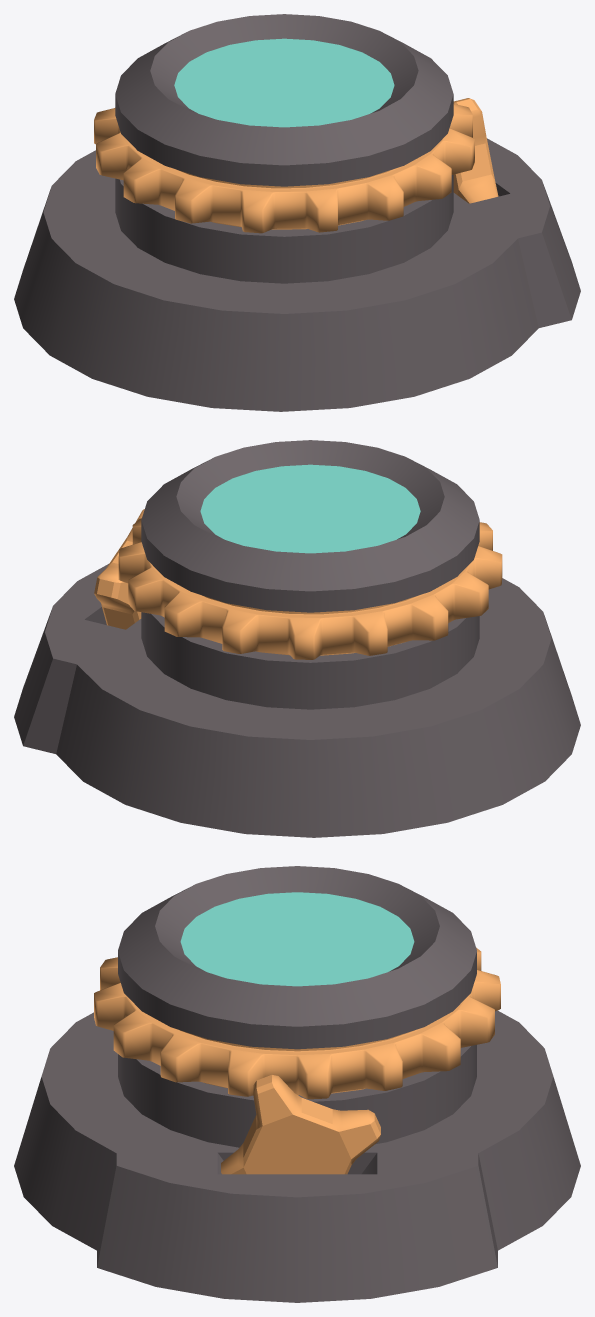
The model's file is Small_turret.fbx.
3 views of the same model, one above another, from view 1: azimuth 30°, elevation 25°; view 2: azimuth 150°, elevation 25°; view 3: azimuth 270°, elevation 25° (orthographic). The views are drawn at different scales.
Parts seen in each view (by area): view 1: Small_turret_base, Small_turret_lcog, Small_turret_scog; view 2: Small_turret_base, Small_turret_lcog, Small_turret_scog; view 3: Small_turret_base, Small_turret_lcog, Small_turret_scog.
Part boxes in pixels (x1=…): Small_turret_base: x1=14, y1=14, x2=580, y2=411; Small_turret_lcog: x1=94, y1=104, x2=474, y2=233; Small_turret_scog: x1=453, y1=98, x2=498, y2=203; Small_turret_base: x1=14, y1=440, x2=580, y2=837; Small_turret_lcog: x1=118, y1=518, x2=502, y2=659; Small_turret_scog: x1=94, y1=509, x2=144, y2=629; Small_turret_base: x1=14, y1=866, x2=580, y2=1302; Small_turret_lcog: x1=94, y1=947, x2=500, y2=1099; Small_turret_scog: x1=221, y1=1075, x2=380, y2=1174.
Size of the model in its own units: 136 by 59.76 by 127.
